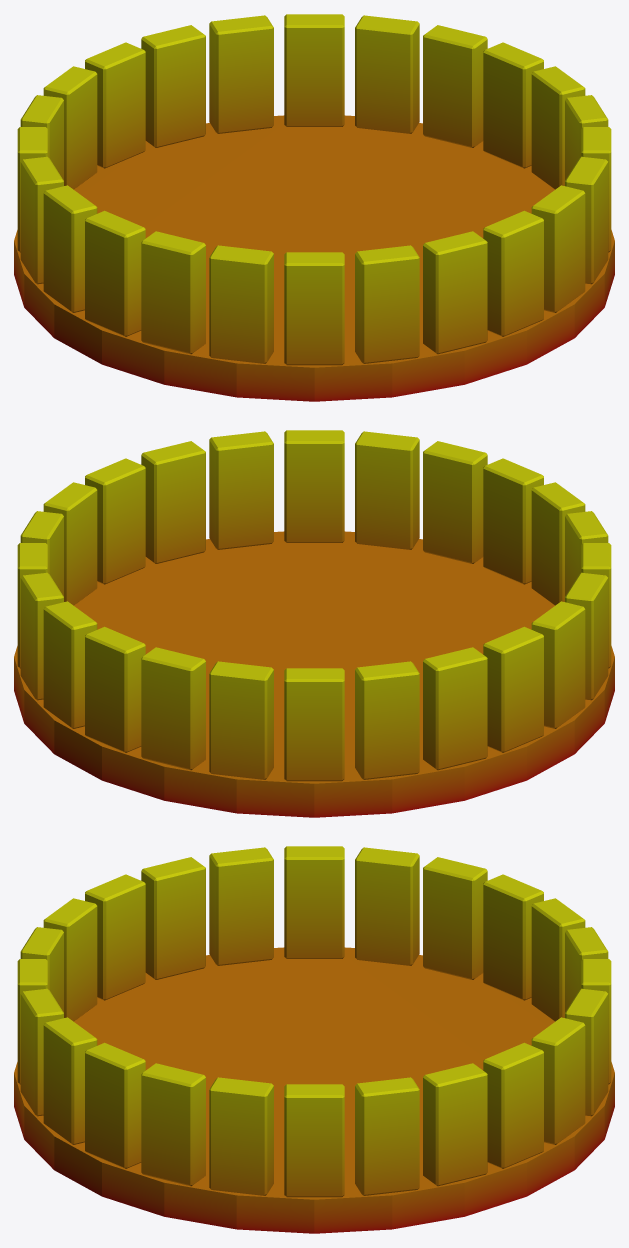
Rendered from tower_crown.glb.
3 renders of one model, top to bottom at view 1: azimuth 30°, elevation 25°; view 2: azimuth 150°, elevation 25°; view 3: azimuth 270°, elevation 25°, orthographic.
Visible parts, largest first — view 1: tower_crown; view 2: tower_crown; view 3: tower_crown.
Part boxes in pixels (bbox=[...]): tower_crown: bbox=[14, 14, 614, 401]; tower_crown: bbox=[14, 430, 614, 817]; tower_crown: bbox=[14, 846, 614, 1233].
Size of what is drawn, in the model's own units: 8 by 2 by 8.
